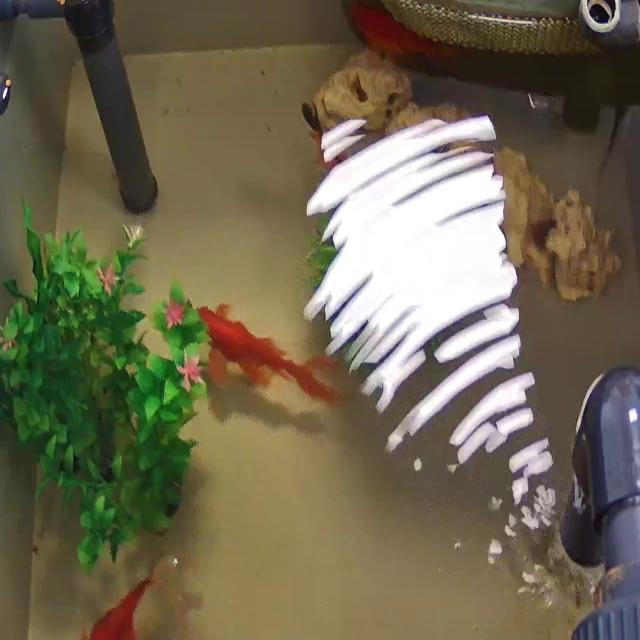fish: (200, 301, 332, 407), (70, 555, 172, 640), (352, 0, 453, 69)
